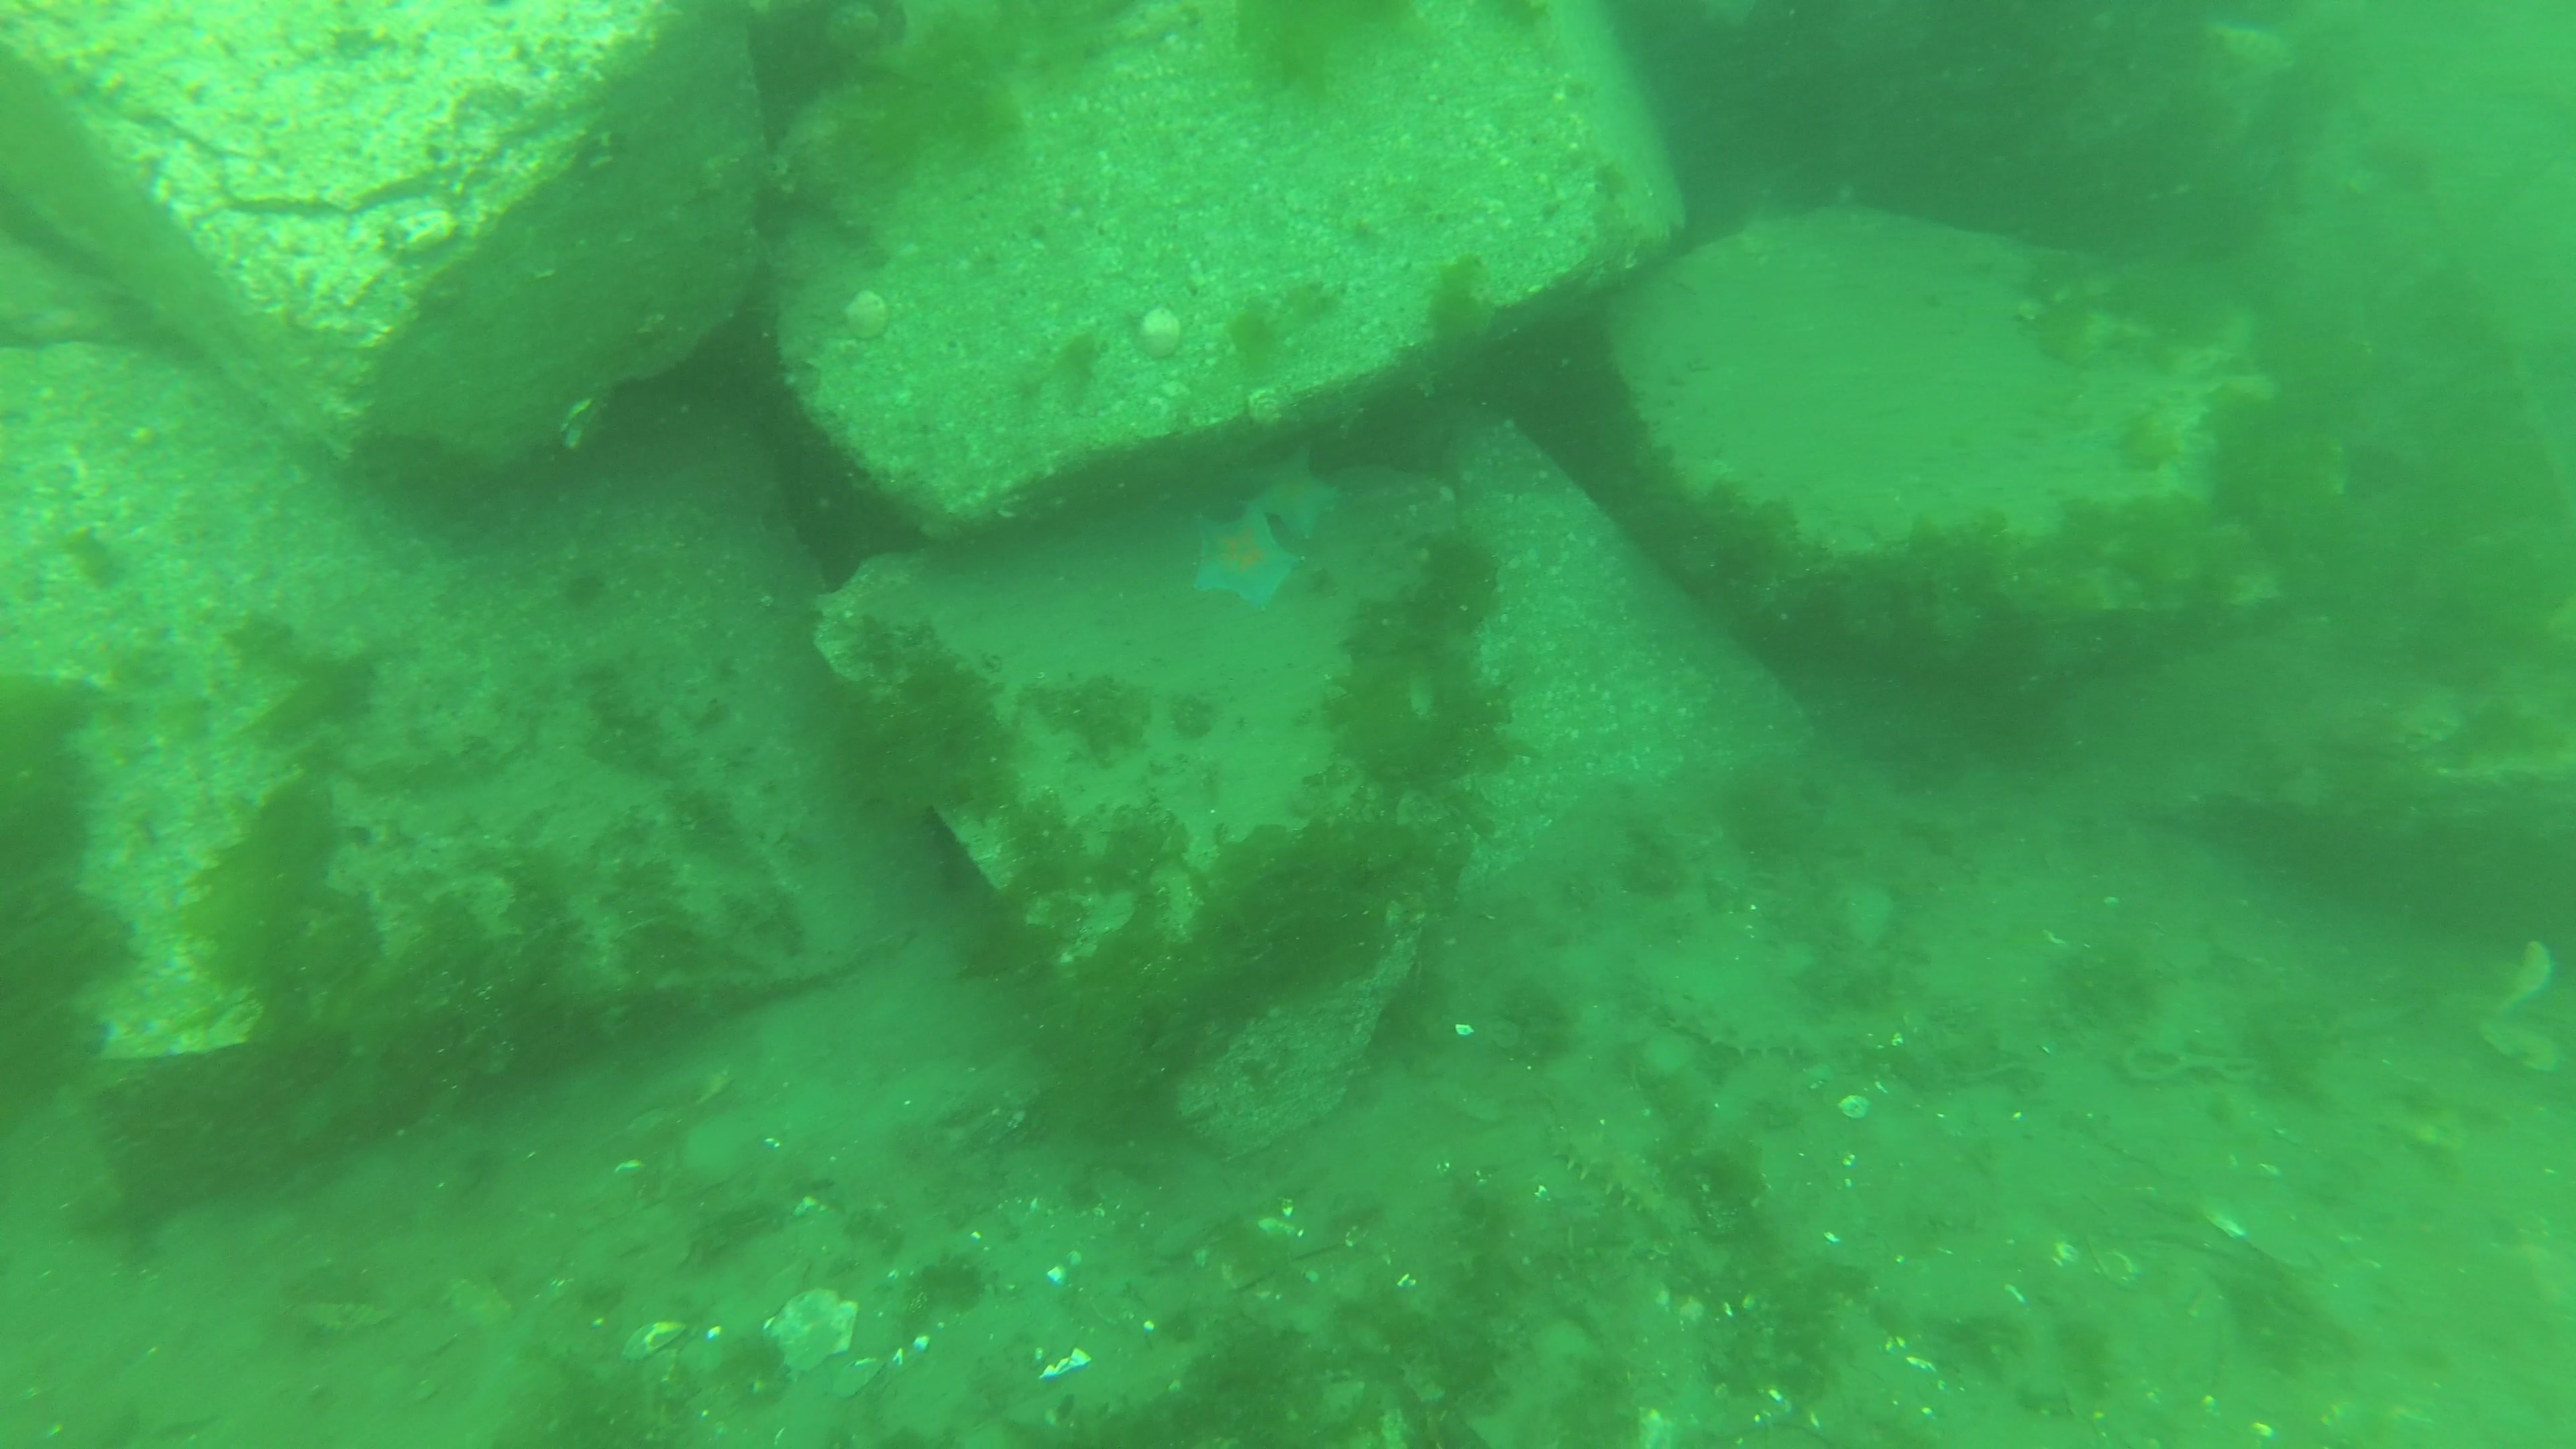holothurian: (1541, 1118, 1677, 1221), (1654, 989, 1821, 1062)
starfish: (1185, 502, 1313, 617), (1237, 442, 1348, 538)
